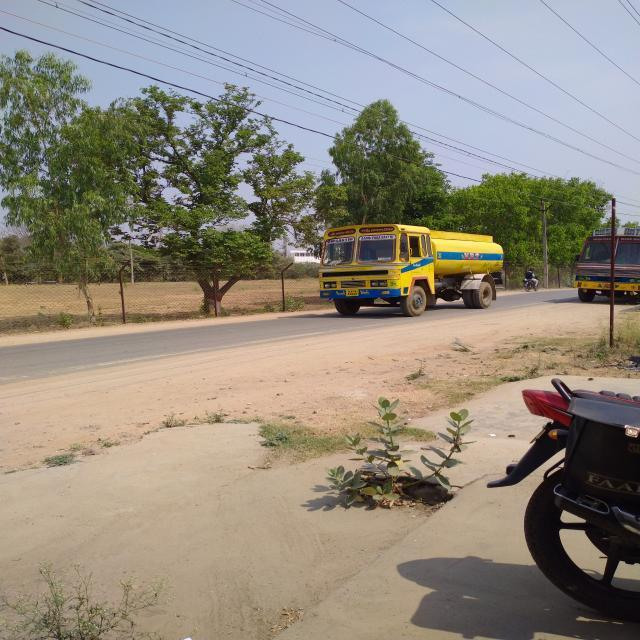truck_front: (314, 218, 506, 318), (571, 225, 640, 308)
